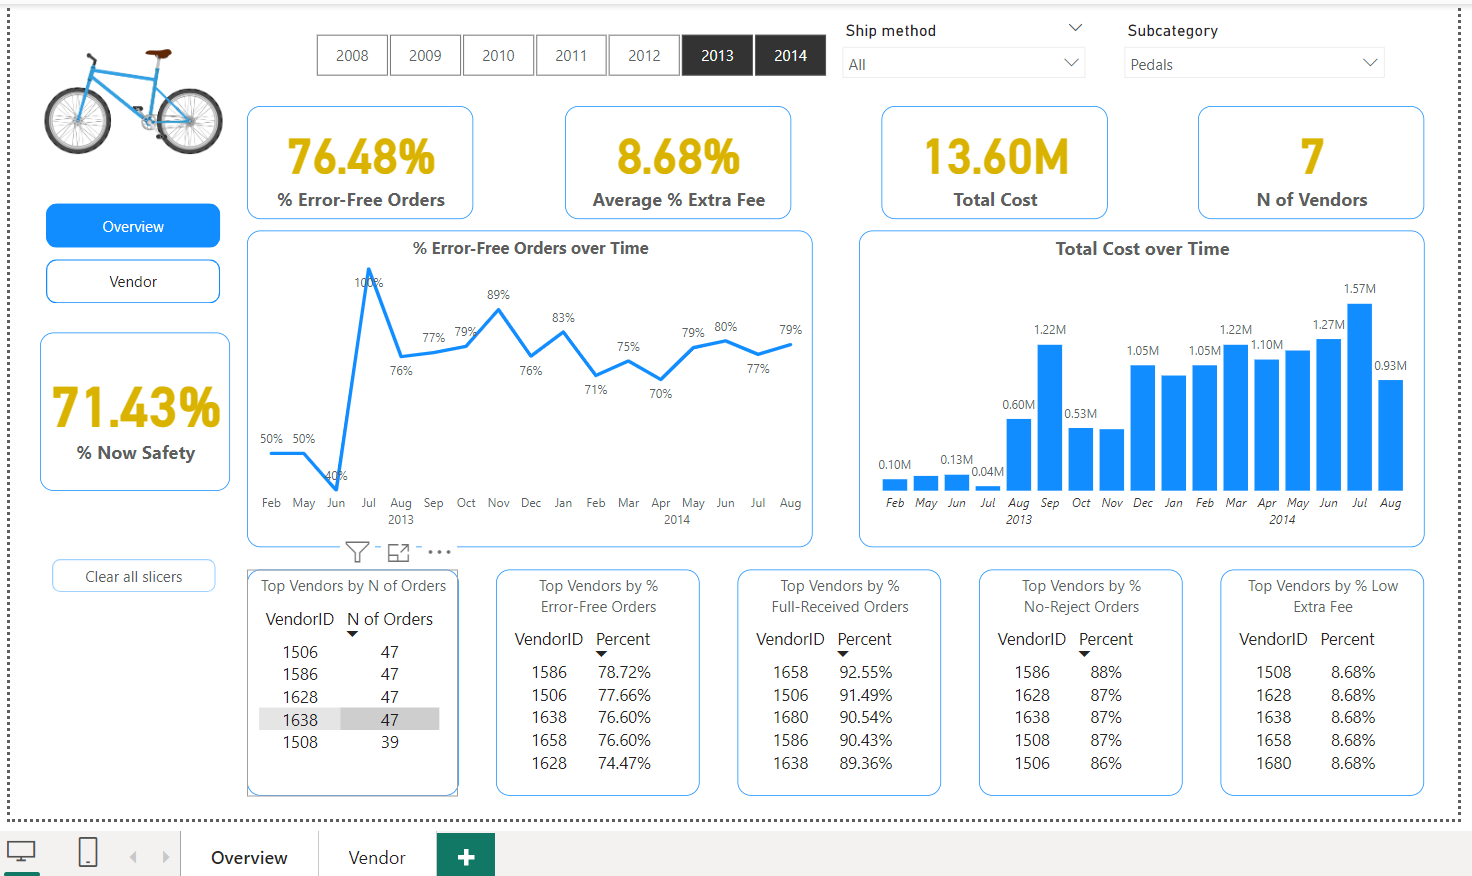

What the dashboard file says about the page in this screenshot:
{"tool":"powerbi","page":{"name":"Overview","canvas":[1280,720],"ordinal":0},"visuals":[{"type":"pageNavigator","box":[32.1,176.7,154.8,89.1],"z":0},{"type":"clusteredColumnChart","title":"Total Cost over Time","fields":{"Y":["Sum(PurchaseOrderDetail.Grandtotal)"],"Category":["Dimdate.Year Hierarchy.Year","Dimdate.Year Hierarchy.Month"]},"box":[750,200,500,280],"z":1000},{"type":"card","fields":{"Values":["Measure.%_product_safety"]},"box":[26.3,289.9,168,140.2],"z":2000},{"type":"lineChart","title":"% Error-Free Orders over Time","fields":{"Y":["Measure.%_perfectorder"],"Category":["Dimdate.Year Hierarchy.Year","Dimdate.Year Hierarchy.Month"]},"box":[210,200,500,280],"z":3000},{"type":"actionButton","box":[36.5,490.7,144.6,29.2],"z":4000},{"type":"card","fields":{"Values":["Sum(PurchaseOrderDetail.Grandtotal)"]},"box":[770,90,200,100],"z":5000},{"type":"image","box":[24.8,0,168,172.3],"z":6000},{"type":"slicer","fields":{"Values":["Dimsubcategory.Name"]},"box":[980.3,15,240,60],"z":7000},{"type":"card","fields":{"Values":["Count(PurchaseOrderDetail.VendorID)"]},"box":[1050,90,200,100],"z":8000},{"type":"tableEx","title":"Top Vendors by % Full-Received Orders","fields":{"Values":["PurchaseOrderDetail.VendorID","Measure.%_perfectreceive"]},"box":[643.5,500,180,200],"z":9000},{"type":"card","fields":{"Values":["Measure.%_perfectorder"]},"box":[210,90,200,100],"z":10000},{"type":"tableEx","title":"Top Vendors by % Error-Free Orders","fields":{"Values":["PurchaseOrderDetail.VendorID","Measure.%_perfectorder"]},"box":[430.2,500,180,200],"z":11000},{"type":"slicer","fields":{"Values":["Dimdate.Year"]},"box":[245.3,20,500,50],"z":12000},{"type":"tableEx","title":"Top Vendors by % Low Extra Fee","fields":{"Values":["PurchaseOrderDetail.VendorID","Measure.%_taxfreight"]},"box":[1070,500,180,200],"z":13000},{"type":"tableEx","title":"Top Vendors by % No-Reject Orders","fields":{"Values":["PurchaseOrderDetail.VendorID","Measure.%_perfectreject"]},"box":[856.8,500,180,200],"z":14000},{"type":"slicer","fields":{"Values":["Dimship.Name"]},"box":[730.3,15,225,60],"z":15000},{"type":"tableEx","title":"Top Vendors by N of Orders","fields":{"Values":["PurchaseOrderDetail.VendorID","Measure.count_orderid"]},"box":[210,500,187,200],"z":16000},{"type":"card","fields":{"Values":["Measure.%_fee"]},"box":[490,90,200,100],"z":17000}]}

Visuals, with their boxes on the page's 1280x720 design canvas (x1, y1, x2, y2). These are canvas units, not pixel positions in the 1472x876 screenshot, which may show the page scaled, cropped or inside an application window:
pageNavigator: [x1=32, y1=177, x2=187, y2=266]
"Total Cost over Time" clusteredColumnChart: [x1=750, y1=200, x2=1250, y2=480]
card - Measure.%_product_safety: [x1=26, y1=290, x2=194, y2=430]
"% Error-Free Orders over Time" lineChart: [x1=210, y1=200, x2=710, y2=480]
actionButton: [x1=36, y1=491, x2=181, y2=520]
card - Sum(PurchaseOrderDetail.Grandtotal): [x1=770, y1=90, x2=970, y2=190]
image: [x1=25, y1=0, x2=193, y2=172]
slicer - Dimsubcategory.Name: [x1=980, y1=15, x2=1220, y2=75]
card - Count(PurchaseOrderDetail.VendorID): [x1=1050, y1=90, x2=1250, y2=190]
"Top Vendors by % Full-Received Orders" tableEx: [x1=644, y1=500, x2=824, y2=700]
card - Measure.%_perfectorder: [x1=210, y1=90, x2=410, y2=190]
"Top Vendors by % Error-Free Orders" tableEx: [x1=430, y1=500, x2=610, y2=700]
slicer - Dimdate.Year: [x1=245, y1=20, x2=745, y2=70]
"Top Vendors by % Low Extra Fee" tableEx: [x1=1070, y1=500, x2=1250, y2=700]
"Top Vendors by % No-Reject Orders" tableEx: [x1=857, y1=500, x2=1037, y2=700]
slicer - Dimship.Name: [x1=730, y1=15, x2=955, y2=75]
"Top Vendors by N of Orders" tableEx: [x1=210, y1=500, x2=397, y2=700]
card - Measure.%_fee: [x1=490, y1=90, x2=690, y2=190]
